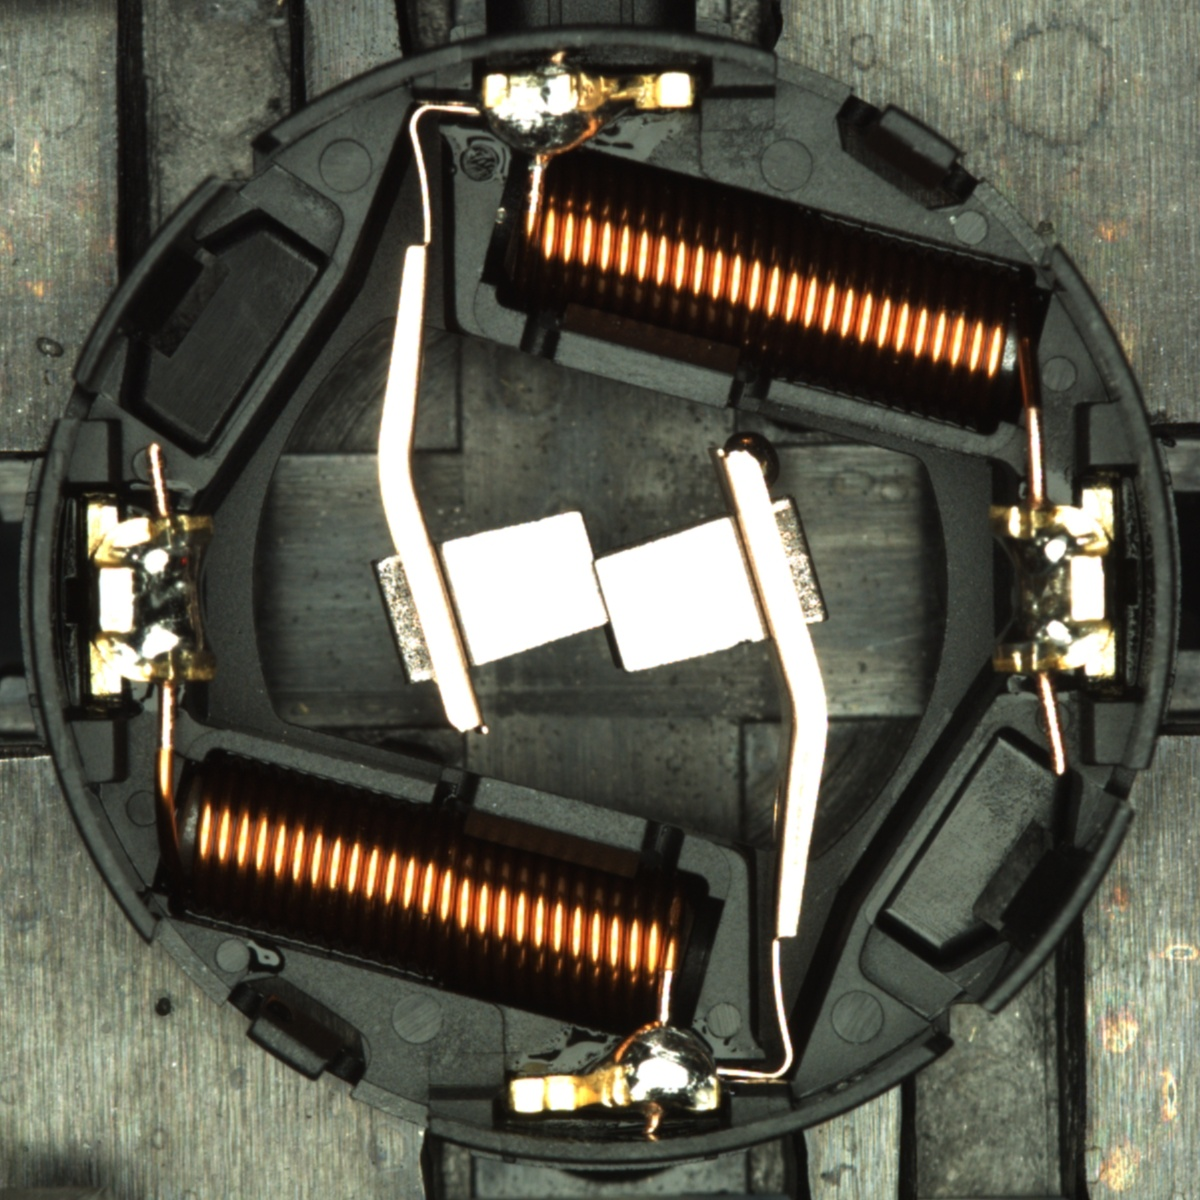1: (258, 55, 487, 279), (716, 953, 945, 1177)
2: (716, 55, 945, 279), (258, 953, 487, 1177)
3: (29, 279, 258, 503), (945, 729, 1175, 953)
4: (258, 279, 487, 503), (716, 729, 945, 953)
5: (487, 167, 716, 391), (487, 841, 716, 1065)
6: (258, 729, 487, 953)
7: (945, 279, 1175, 503), (29, 729, 258, 953)
chau_dien: (79, 498, 219, 698), (982, 486, 1122, 685)
hat_chi: (724, 432, 781, 489)
tay_choi: (481, 66, 700, 165), (508, 1019, 722, 1116)
thanh_de: (954, 785, 1142, 1031), (59, 164, 244, 404)
